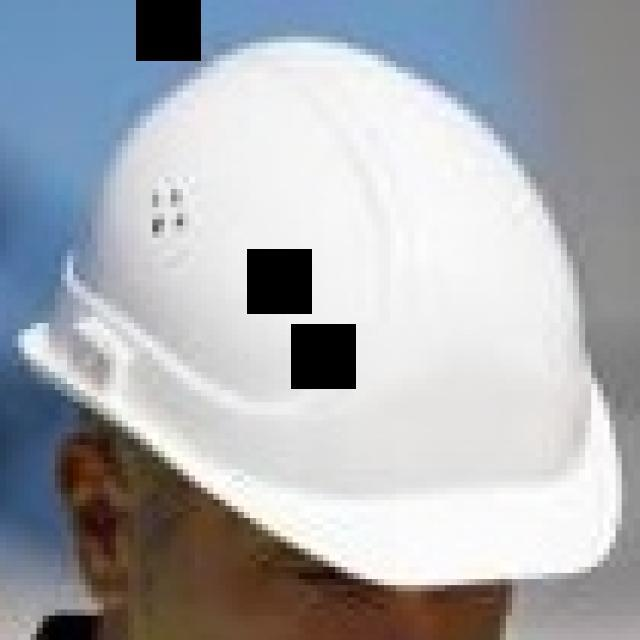white helmet: (11, 21, 626, 595)
